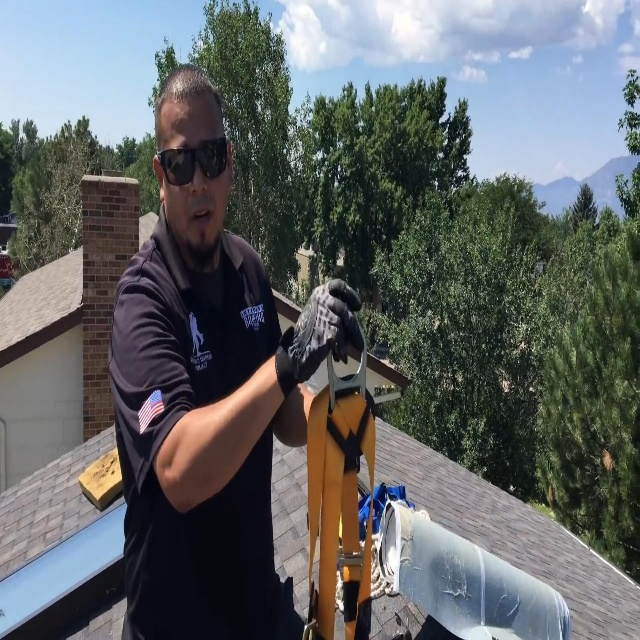Arnes_seguridad: (280, 289, 397, 640)
